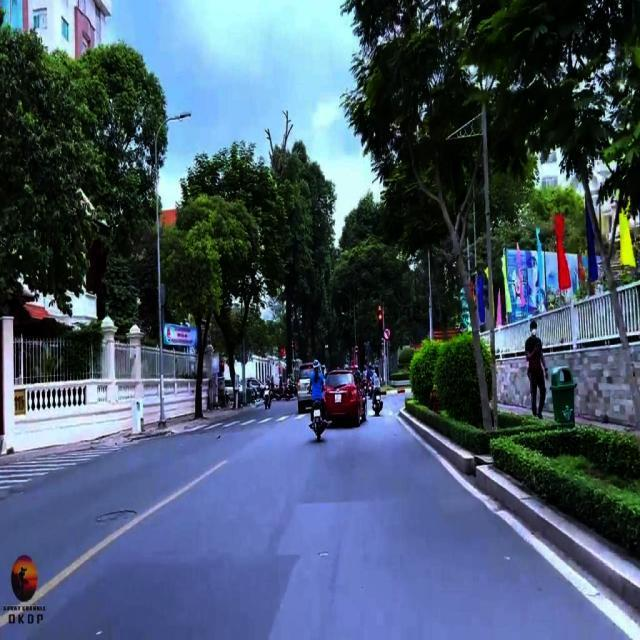106-cam-oto-tai: (354, 345, 359, 353)
123a-cam-re-trai: (383, 327, 391, 340)
